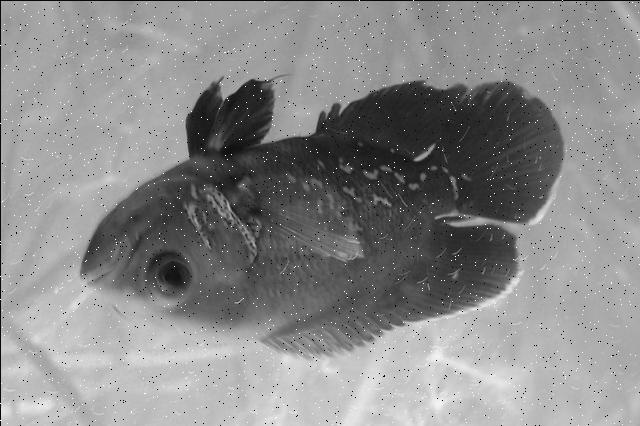Mulut: (65, 224, 152, 312)
Sirip Anal: (311, 67, 467, 161)
Sirip Dada: (238, 162, 374, 267)
Sirip Ekor: (428, 73, 570, 237)
Sirip Perut: (181, 61, 283, 164)
Sirip Punggung: (252, 220, 532, 374)
